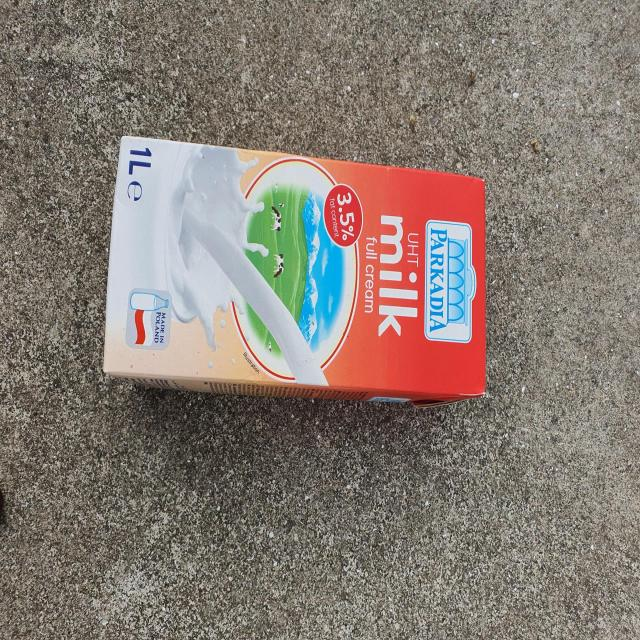paperpack: (103, 136, 486, 406)
